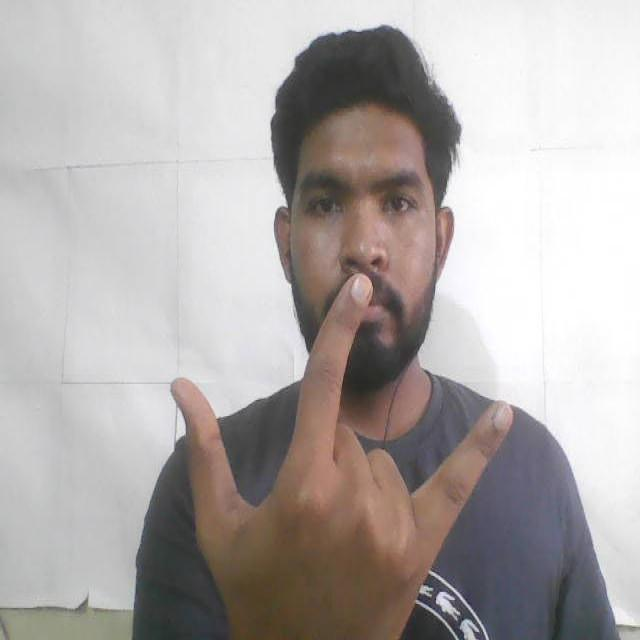ILoveYou: (147, 260, 522, 640)
